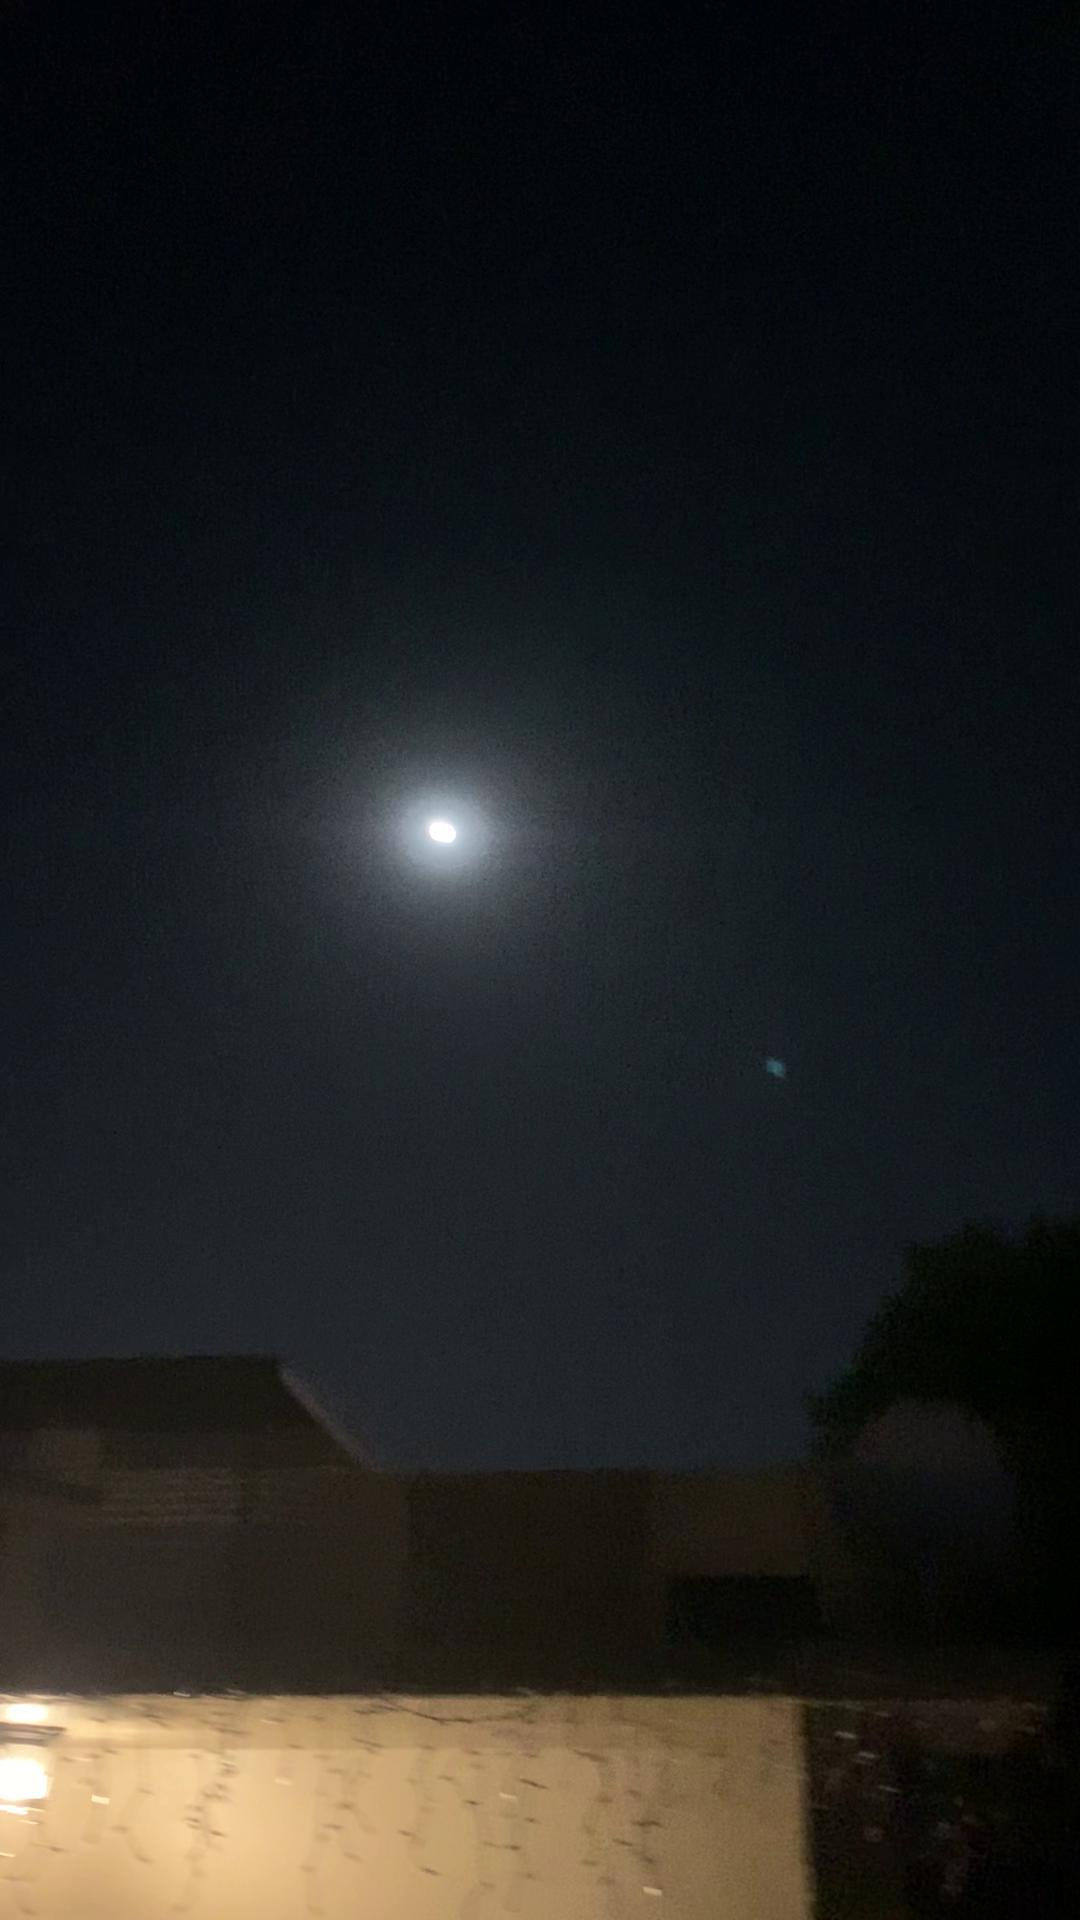moon: (393, 796, 480, 876)
